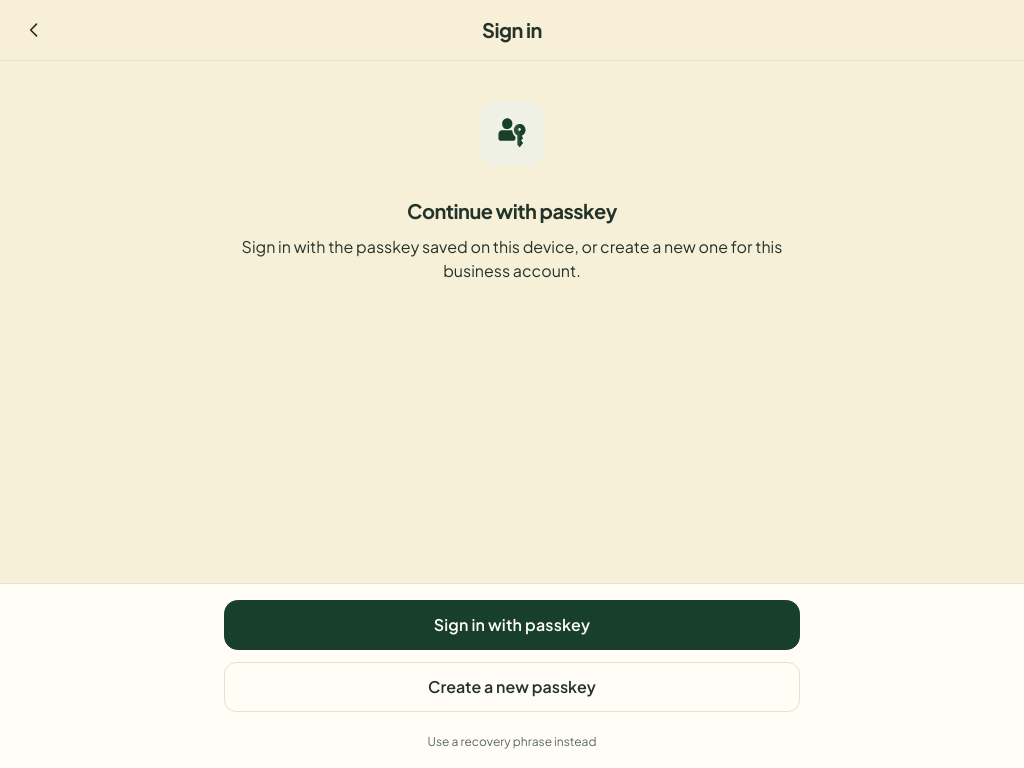
Test case: PasskeyPage › recovers from a cancelled derivation without staying in a loading state
Click the button with test id "passkey-signin-button".
click(512, 625)  # box left=224, top=600, right=800, bottom=650
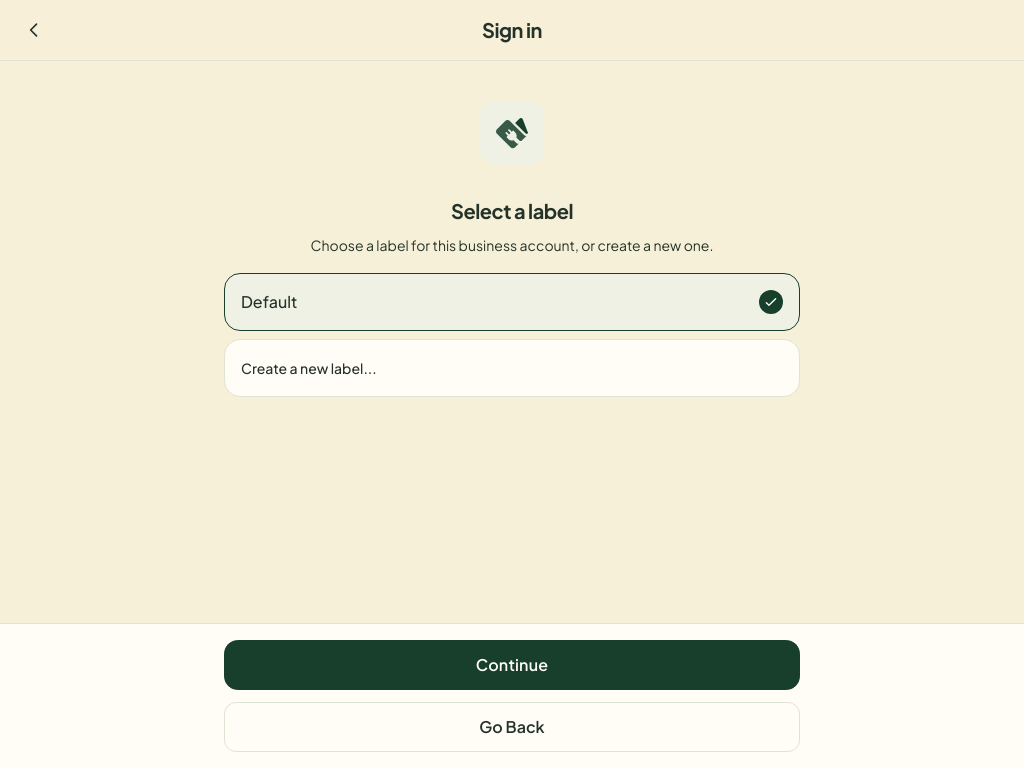
Check: the heading "Select a label" is shown, box left=451, top=198, right=573, bottom=223
Click the button with test id "passkey-continue-button".
click(512, 665)  # box left=224, top=640, right=800, bottom=690
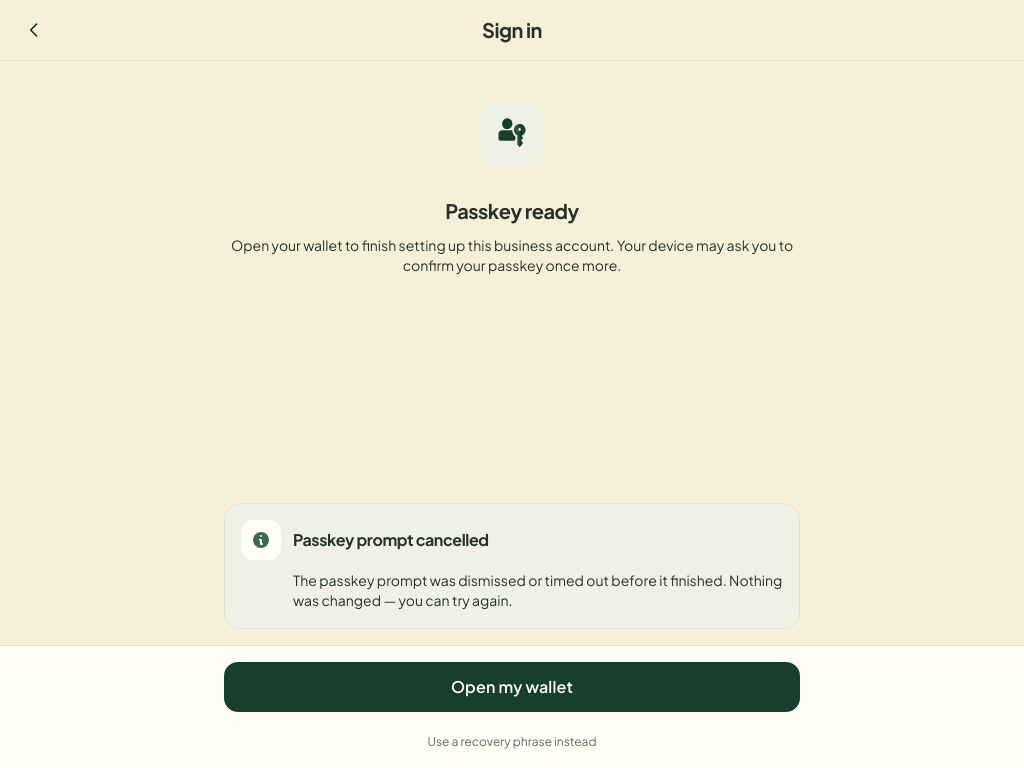
Check: the heading "Passkey prompt cancelled" is shown, box left=293, top=528, right=489, bottom=552
Check: the button with test id "passkey-open-wallet-button" is shown, box left=224, top=662, right=800, bottom=712
